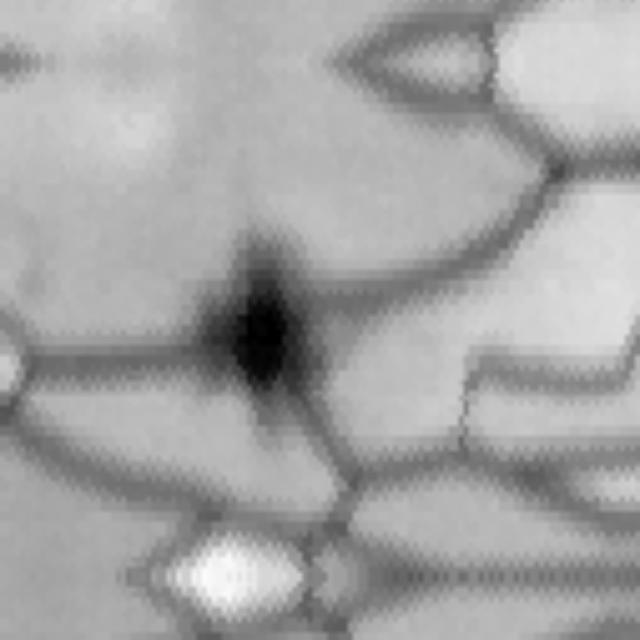good_void: (183, 215, 348, 440)
